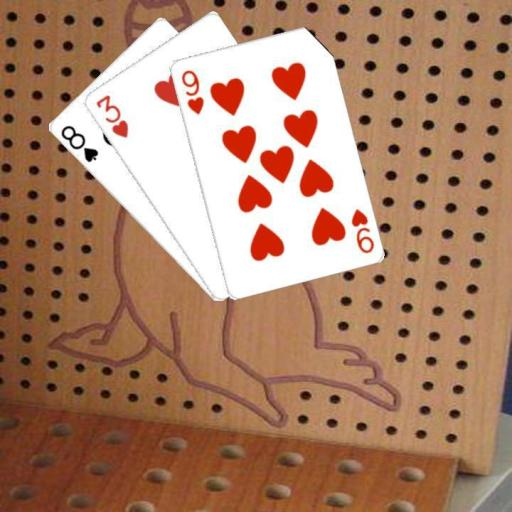card-corner: (92, 91, 130, 139), (57, 122, 99, 164), (178, 66, 205, 116), (348, 204, 375, 254)
